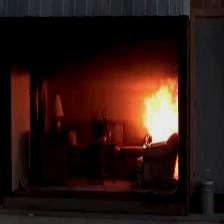fire: (135, 80, 187, 145)
smoke: (4, 17, 189, 91)
